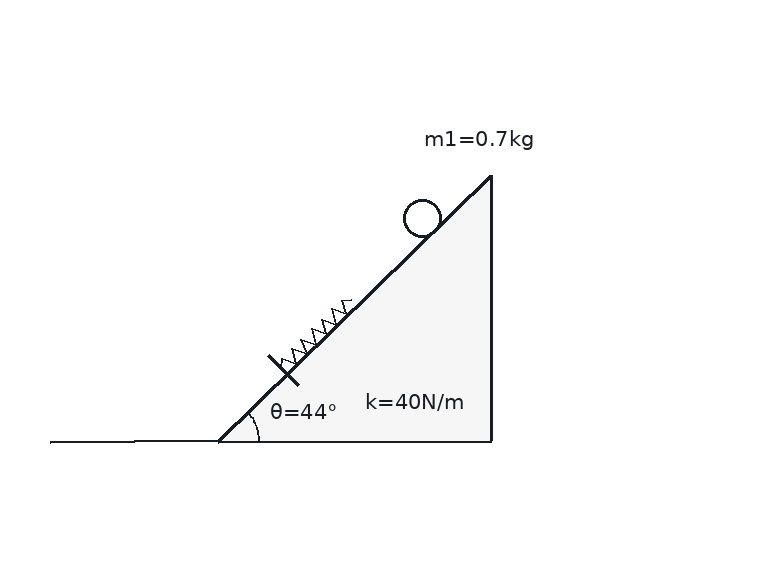ball: (401, 197, 443, 239)
ramp: (217, 175, 494, 442)
spring: (279, 297, 354, 370)
